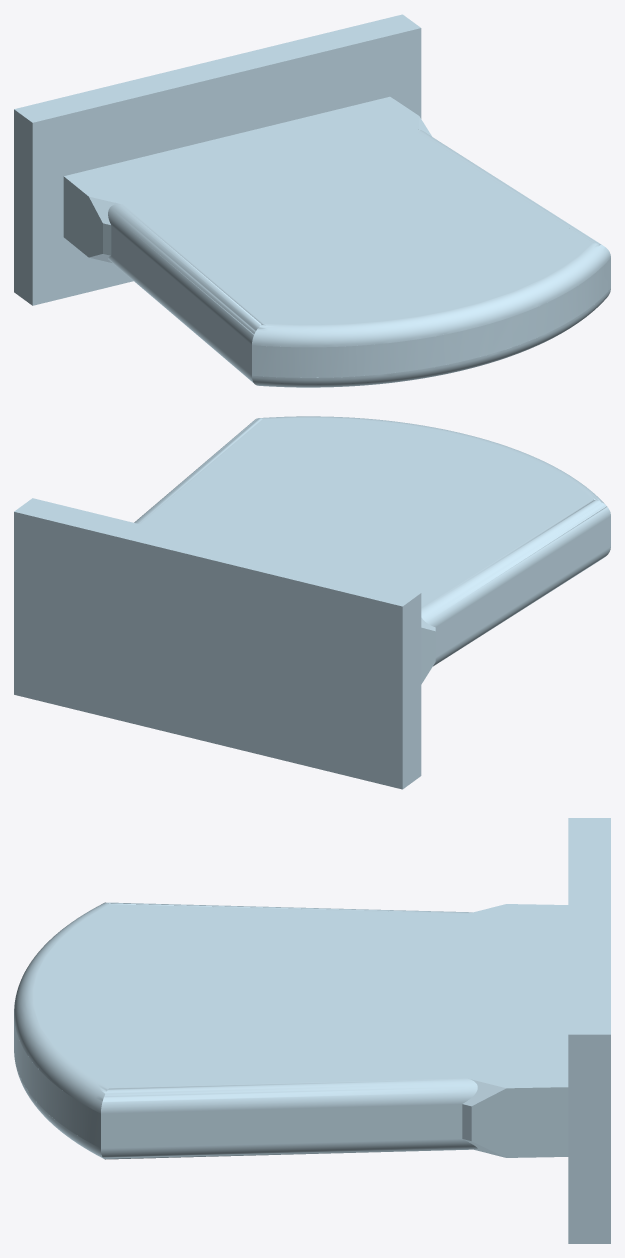
File: PA-87-F_processed.fbx
The picture shows the model from 3 angles, top to bottom: view 1: azimuth 30°, elevation 25°; view 2: azimuth 150°, elevation 25°; view 3: azimuth 270°, elevation 25°; orthographic projection. The views are drawn at different scales.
Parts seen in each view (by area): view 1: PA-87-F_LOD0; view 2: PA-87-F_LOD0; view 3: PA-87-F_LOD0.
Part boxes in pixels (x1,y1,x2,y2): PA-87-F_LOD0: (14,14,610,387); PA-87-F_LOD0: (14,416,610,789); PA-87-F_LOD0: (14,818,610,1243).
Size of what is drawn, in the model's own units: 67.74 by 30.48 by 78.84.
